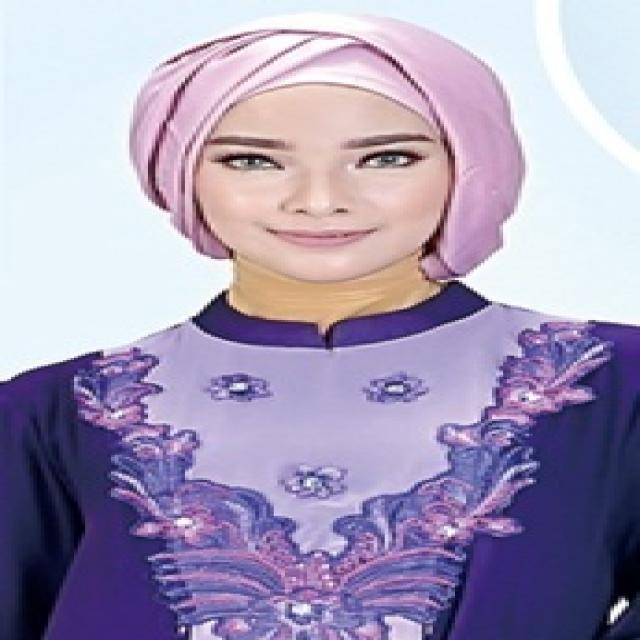head: (132, 11, 512, 291)
